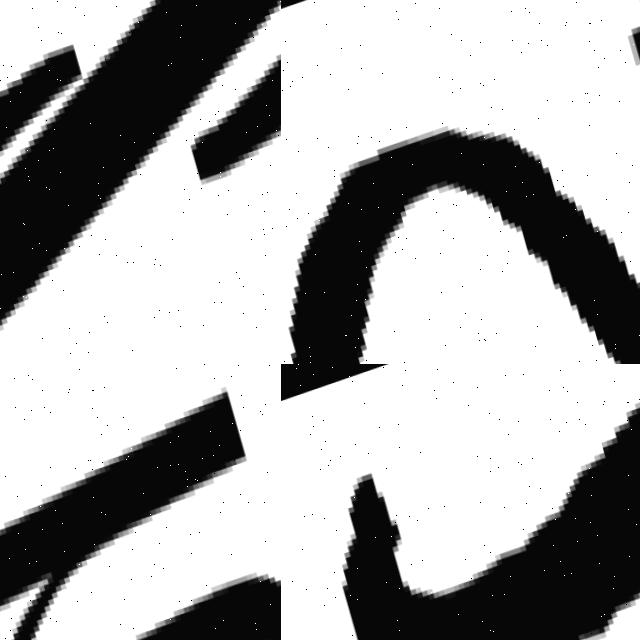H: (0, 396, 251, 640)
R: (289, 364, 640, 640)
S: (281, 0, 640, 364)
Z: (0, 0, 281, 364)
